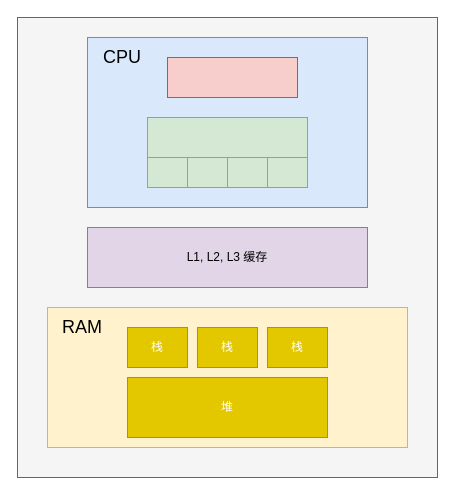
Image size: 455x495. Some labels were removed from this diagram. The centre of each missing label's shape, as x and y in pixels:
CPU 计算单元: the point at 232,77
寄存器: the point at 227,137
